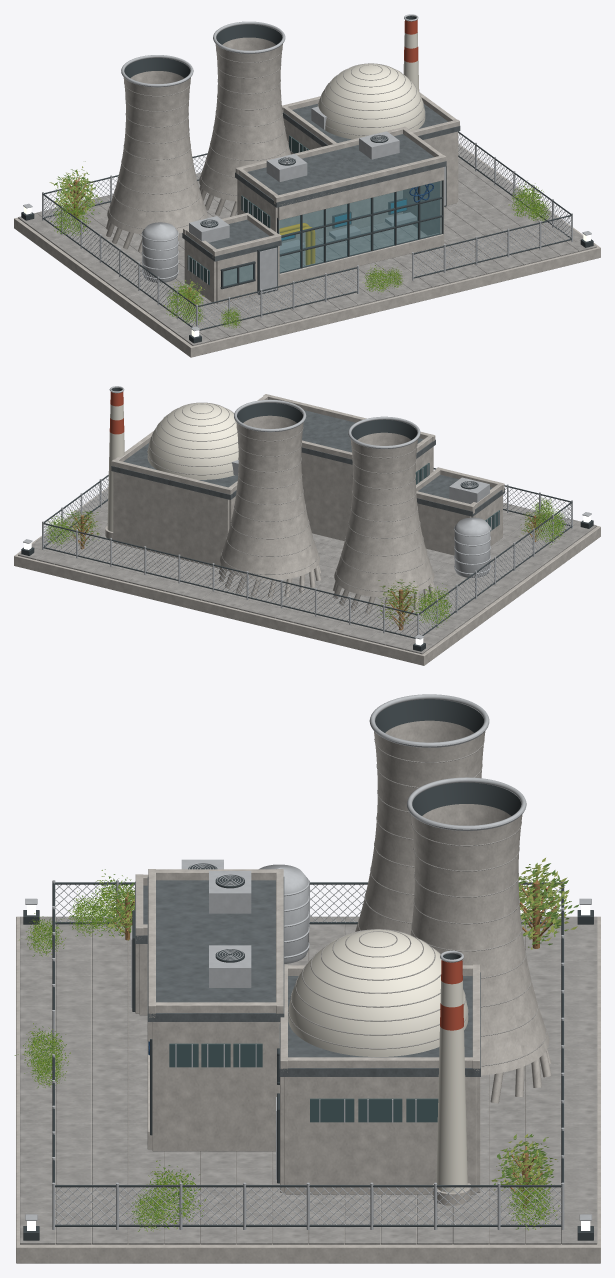
The model's file is central_nuclear.fbx.
3 renders of one model, top to bottom at view 1: azimuth 30°, elevation 25°; view 2: azimuth 150°, elevation 25°; view 3: azimuth 270°, elevation 25°, orthographic. The views are drawn at different scales.
Parts seen in each view (by area): view 1: Solar · Loseta mineral, Torres de refrigeración · Prefabricado caliza, Cúpula y edificio auxiliar · Prefabricado caliza, Cerramiento · Inox cepillado, Cúpula y edificio auxiliar · Cristal de control, Cúpula y edificio auxiliar · Membrana bituminosa, Solar · Prefabricado caliza, Cúpula y edificio auxiliar · Inox cepillado, Cúpula y edificio auxiliar · Esmalte marfil, Cúpula y edificio auxiliar · Perfilería antracita, Cerramiento · Perfilería antracita, Torres de refrigeración · Perfilería antracita (+11 smaller); view 2: Torres de refrigeración · Prefabricado caliza, Solar · Loseta mineral, Cúpula y edificio auxiliar · Prefabricado caliza, Cerramiento · Inox cepillado, Solar · Prefabricado caliza, Cúpula y edificio auxiliar · Esmalte marfil, Cúpula y edificio auxiliar · Membrana bituminosa, Cúpula y edificio auxiliar · Inox cepillado, Cerramiento · Perfilería antracita, Torres de refrigeración · Perfilería antracita, Torres de refrigeración · Loseta mineral, Torres de refrigeración · Inox cepillado (+9 smaller); view 3: Solar · Loseta mineral, Cúpula y edificio auxiliar · Prefabricado caliza, Torres de refrigeración · Prefabricado caliza, Cúpula y edificio auxiliar · Esmalte marfil, Cúpula y edificio auxiliar · Membrana bituminosa, Solar · Prefabricado caliza, Cerramiento · Inox cepillado, Cúpula y edificio auxiliar · Inox cepillado, Cúpula y edificio auxiliar · Vidrio ahumado, Cerramiento · Perfilería antracita, Torres de refrigeración · Perfilería antracita, Torres de refrigeración · Inox cepillado (+16 smaller).
Boxes of the visible parts, box(x1,y1,x2,y2) form: Solar · Loseta mineral: box(18, 145, 596, 345); Torres de refrigeración · Prefabricado caliza: box(106, 37, 290, 252); Cúpula y edificio auxiliar · Prefabricado caliza: box(183, 92, 459, 304); Cerramiento · Inox cepillado: box(42, 133, 572, 328); Cúpula y edificio auxiliar · Cristal de control: box(223, 181, 441, 286); Cúpula y edificio auxiliar · Membrana bituminosa: box(182, 104, 460, 261); Solar · Prefabricado caliza: box(14, 143, 600, 357); Cúpula y edificio auxiliar · Inox cepillado: box(141, 14, 445, 292); Cúpula y edificio auxiliar · Esmalte marfil: box(317, 32, 425, 139); Cúpula y edificio auxiliar · Perfilería antracita: box(200, 16, 446, 294); Cerramiento · Perfilería antracita: box(43, 131, 571, 330); Torres de refrigeración · Perfilería antracita: box(124, 24, 282, 78); Torres de refrigeración · Prefabricado caliza: box(219, 415, 435, 615); Solar · Loseta mineral: box(18, 489, 596, 654); Cúpula y edificio auxiliar · Prefabricado caliza: box(105, 394, 504, 568); Cerramiento · Inox cepillado: box(42, 469, 572, 636); Solar · Prefabricado caliza: box(14, 487, 600, 665); Cúpula y edificio auxiliar · Esmalte marfil: box(107, 403, 238, 531); Cúpula y edificio auxiliar · Membrana bituminosa: box(111, 410, 504, 516); Cúpula y edificio auxiliar · Inox cepillado: box(109, 386, 499, 577); Cerramiento · Perfilería antracita: box(43, 468, 572, 638); Torres de refrigeración · Perfilería antracita: box(237, 403, 417, 439); Torres de refrigeración · Loseta mineral: box(221, 426, 432, 591); Torres de refrigeración · Inox cepillado: box(234, 399, 420, 448); Solar · Loseta mineral: box(20, 916, 597, 1244); Cúpula y edificio auxiliar · Prefabricado caliza: box(135, 869, 480, 1205); Torres de refrigeración · Prefabricado caliza: box(355, 720, 551, 1103); Cúpula y edificio auxiliar · Esmalte marfil: box(288, 929, 468, 1192); Cúpula y edificio auxiliar · Membrana bituminosa: box(135, 877, 480, 1076); Solar · Prefabricado caliza: box(16, 916, 600, 1263); Cerramiento · Inox cepillado: box(52, 880, 564, 1229); Cúpula y edificio auxiliar · Inox cepillado: box(131, 859, 463, 1179); Cúpula y edificio auxiliar · Vidrio ahumado: box(169, 1043, 438, 1122); Cerramiento · Perfilería antracita: box(52, 882, 563, 1226); Torres de refrigeración · Perfilería antracita: box(375, 699, 521, 815); Torres de refrigeración · Inox cepillado: box(369, 694, 526, 830).
Bounding box in the file's own units: 15.4 × 6.25 × 11.54.
21 materials, 5 textured.
